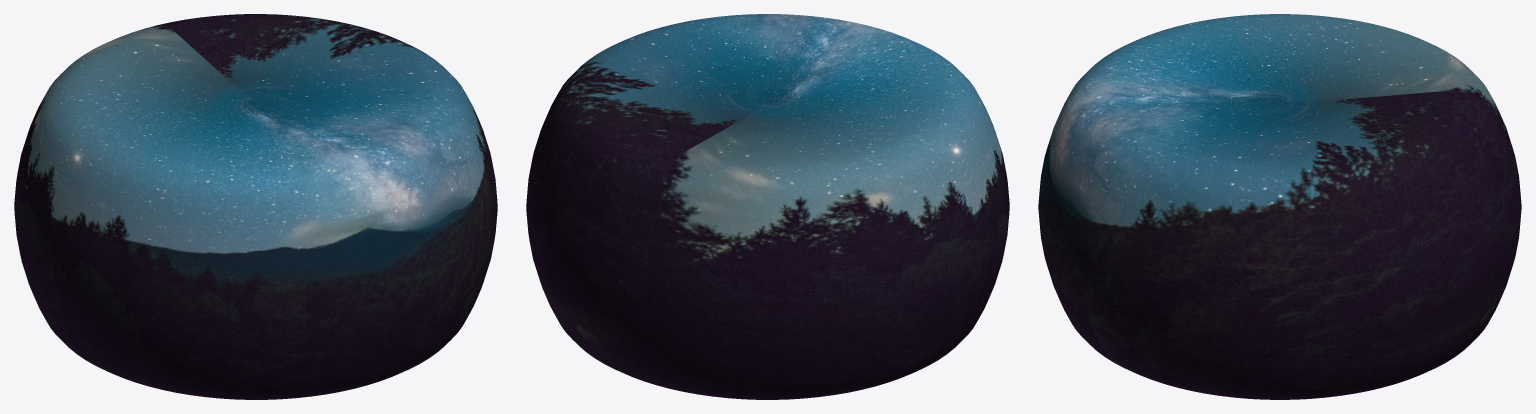
Rendered from MenuBg.fbx.
3 views of the same model, side by side, from view 1: azimuth 30°, elevation 25°; view 2: azimuth 150°, elevation 25°; view 3: azimuth 270°, elevation 25° (orthographic).
Parts seen in each view (by area): view 1: MenuBg001; view 2: MenuBg001; view 3: MenuBg001.
Boxes of the visible parts, x1,y1,x2,y2 form: MenuBg001: [14, 14, 497, 399]; MenuBg001: [526, 14, 1009, 399]; MenuBg001: [1038, 14, 1521, 399].
Bounding box in the file's own units: 2113 × 1116 × 2113.
Materials: 1 (1 with a texture image).
